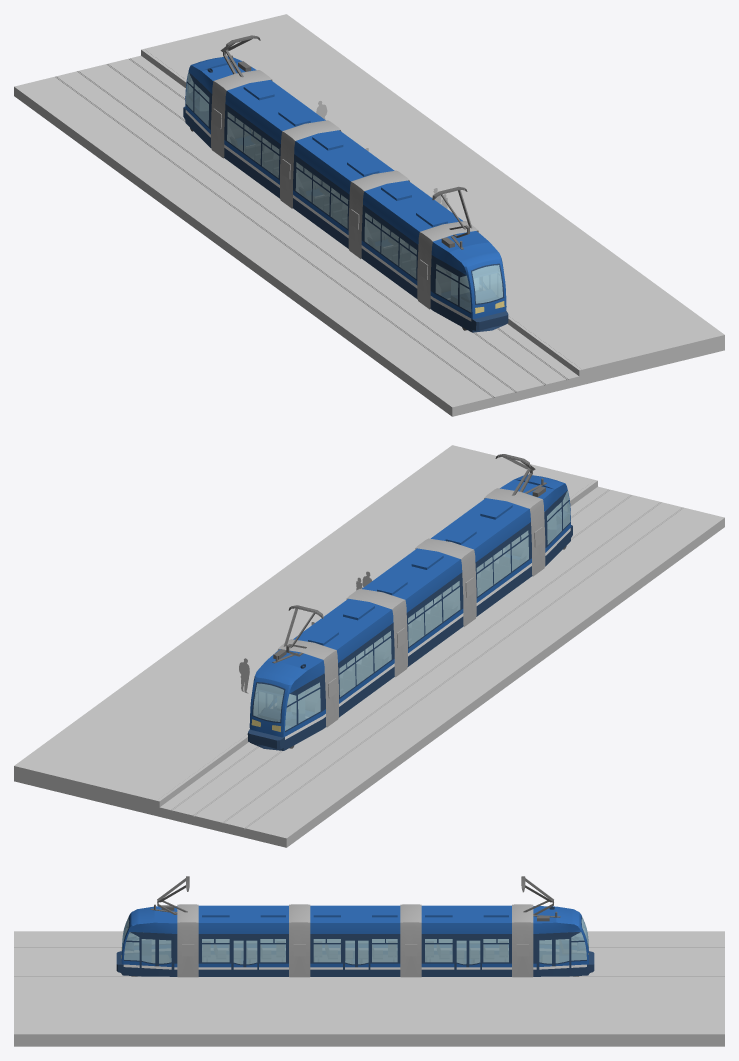
Rendered from tram.v2.fbx.
3 renders of one model, top to bottom at view 1: azimuth 30°, elevation 25°; view 2: azimuth 150°, elevation 25°; view 3: azimuth 270°, elevation 25°, orthographic. The views are drawn at different scales.
Visible parts, largest first — view 1: Group_001, OBJECT_1_001, Group_004; view 2: Group_001, OBJECT_1_001, Group_002; view 3: Group_001, OBJECT_1_001, Group_002, Group_004.
Boxes of the visible parts, left/top/right/bottom form: Group_001: left=14, top=14, right=724, bottom=416; OBJECT_1_001: left=183, top=56, right=508, bottom=332; Group_004: left=432, top=186, right=472, bottom=249; Group_001: left=14, top=445, right=724, bottom=847; OBJECT_1_001: left=247, top=474, right=572, bottom=750; Group_002: left=272, top=605, right=323, bottom=663; Group_001: left=14, top=931, right=724, bottom=1046; OBJECT_1_001: left=116, top=904, right=594, bottom=977; Group_002: left=521, top=876, right=560, bottom=921; Group_004: left=150, top=876, right=189, bottom=914.
Bounding box in the file's own units: 594 × 256 × 1654.
